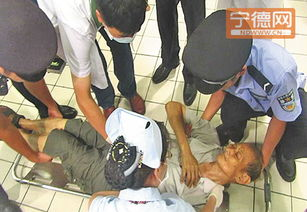fall: (132, 93, 271, 210)
